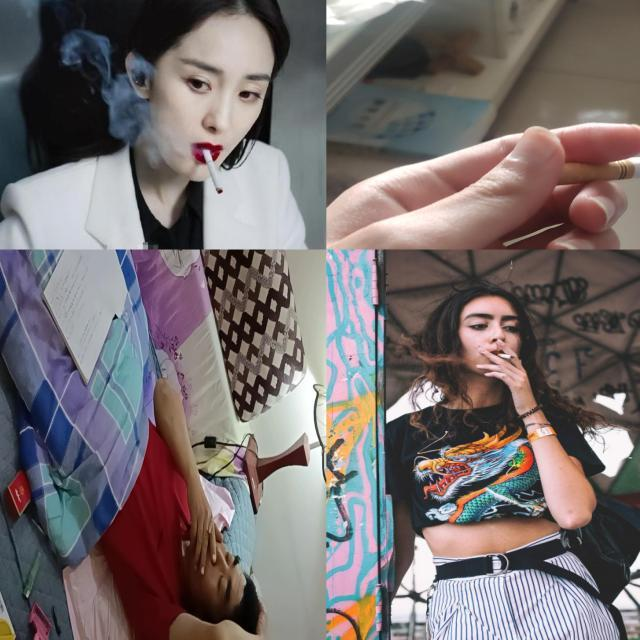smoking: (548, 148, 640, 187), (200, 148, 225, 196), (494, 348, 516, 360), (208, 514, 212, 541)
